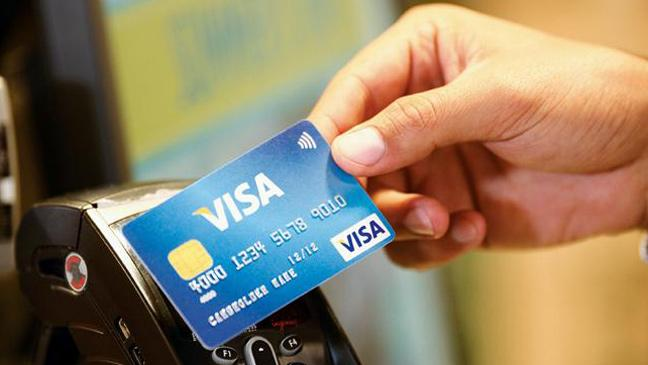tarjeta: (122, 118, 398, 352)
